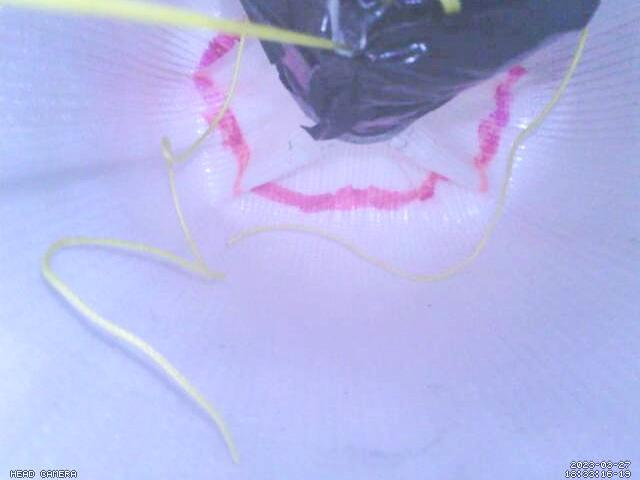head: (192, 32, 530, 212)
